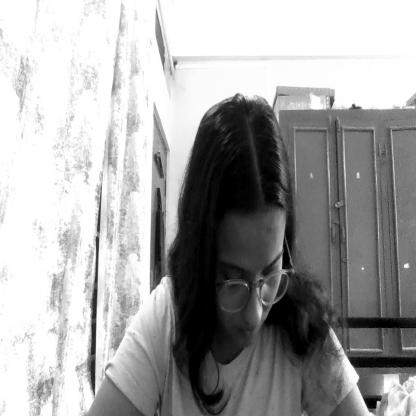Normal: (207, 180, 293, 366)
